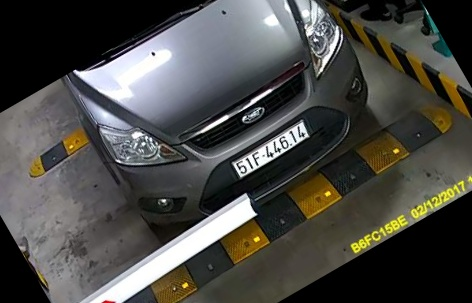plate: (228, 121, 318, 182)
